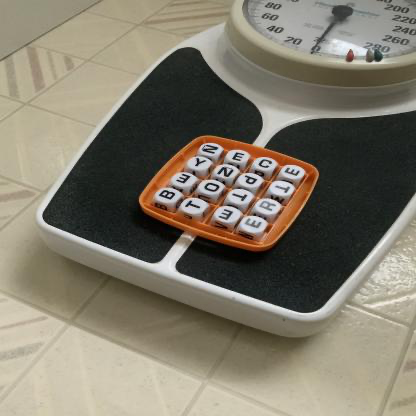b: (158, 188, 182, 203)
c: (257, 157, 275, 171)
e: (244, 216, 267, 233), (283, 165, 306, 181), (217, 208, 238, 225), (174, 172, 195, 187), (231, 150, 247, 165)
n: (216, 165, 238, 180), (200, 142, 221, 157)
o: (203, 181, 223, 196)
p: (241, 172, 263, 189)
r: (258, 199, 280, 214)
t: (229, 189, 253, 205), (271, 182, 295, 197), (183, 199, 206, 213)
y: (191, 156, 211, 170)
